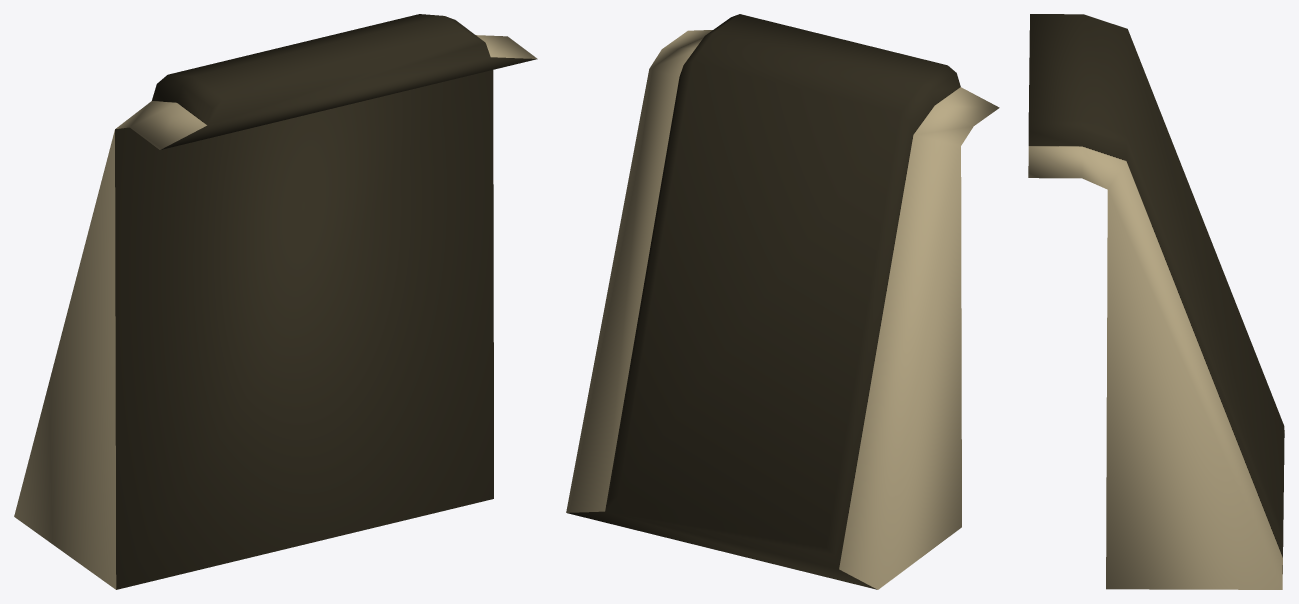
Rendered from Road_RampTall.fbx.
3 renders of one model, left to right at view 1: azimuth 30°, elevation 25°; view 2: azimuth 150°, elevation 25°; view 3: azimuth 270°, elevation 25°, orthographic. The views are drawn at different scales.
Parts seen in each view (by area): view 1: RoadRamp_Tall; view 2: RoadRamp_Tall; view 3: RoadRamp_Tall.
Boxes of the visible parts, x1,y1,x2,y2 form: RoadRamp_Tall: (14,14,537,589); RoadRamp_Tall: (566,14,999,589); RoadRamp_Tall: (1028,14,1284,589).
Size of the model in its own units: 0.3007 by 0.3875 by 0.2032.
